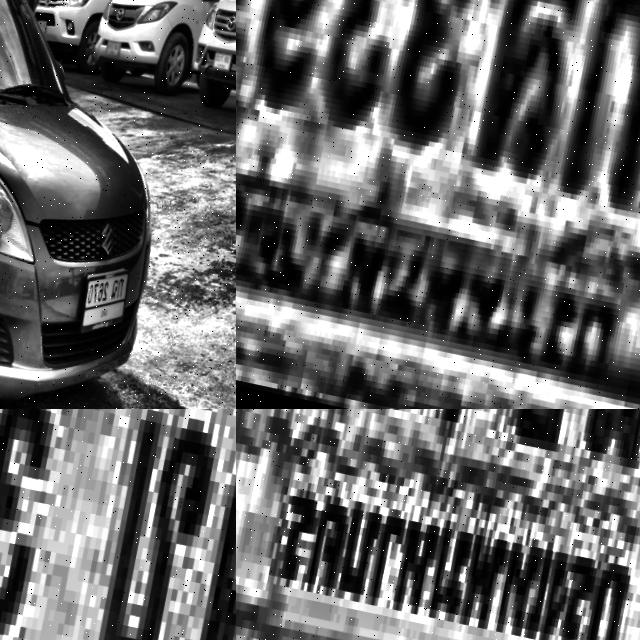license-plate: (236, 0, 640, 409), (236, 409, 640, 640), (0, 409, 236, 640), (69, 258, 131, 342), (209, 45, 233, 73), (101, 36, 120, 58), (32, 16, 45, 34)
